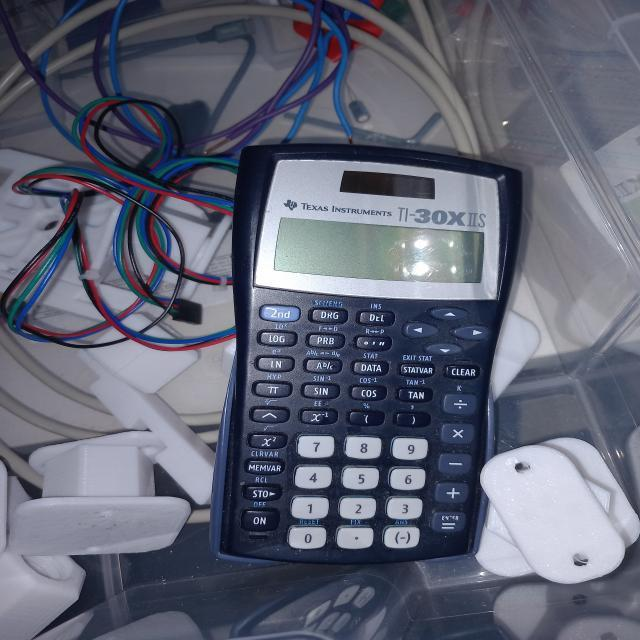Calculator: (212, 144, 524, 566)
